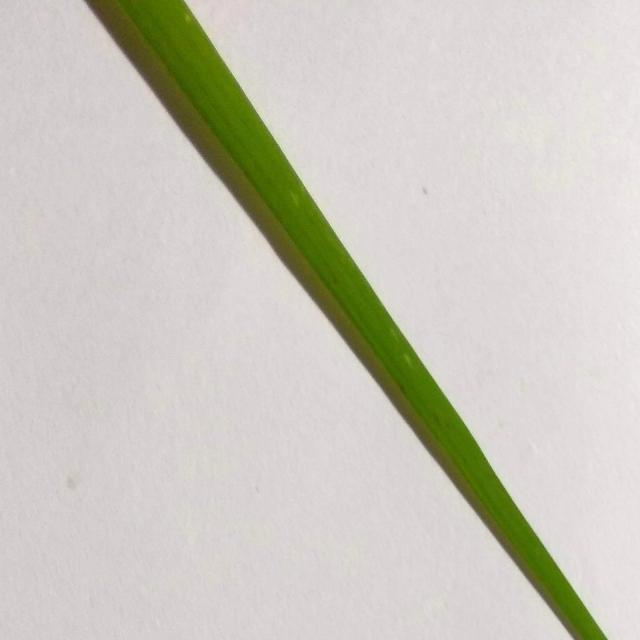healthy: (82, 0, 622, 640)
